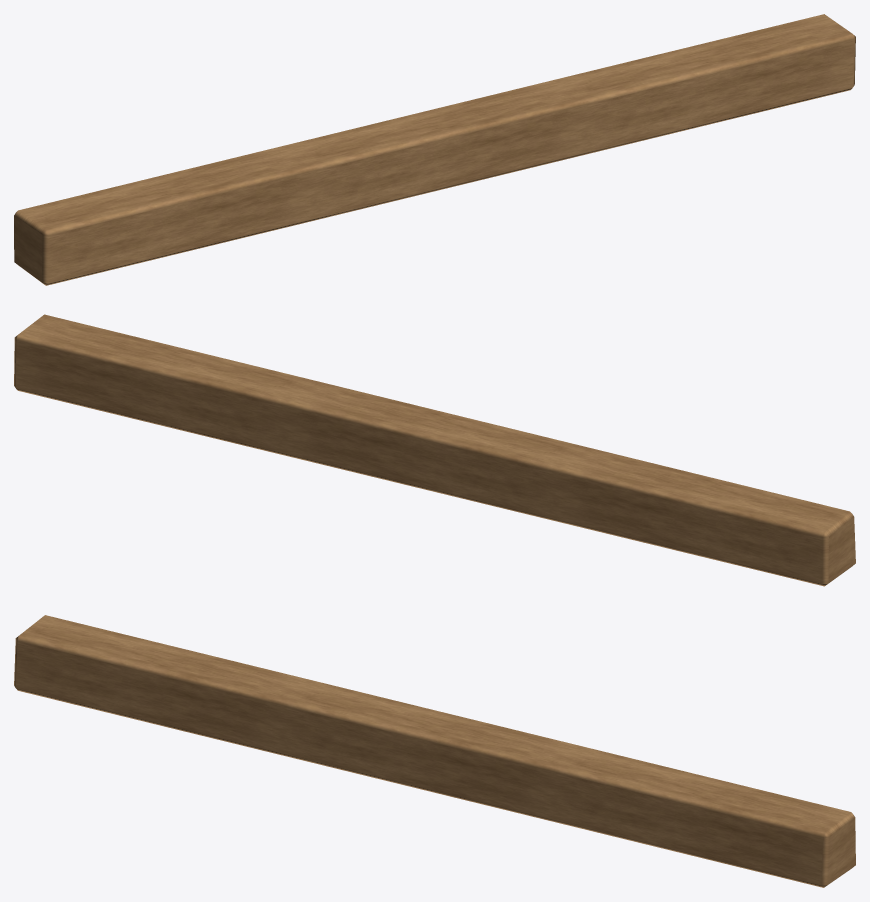
File: Beam_3m.glb
3 views of the same model, one above another, from view 1: azimuth 30°, elevation 25°; view 2: azimuth 150°, elevation 25°; view 3: azimuth 330°, elevation 25° (orthographic).
Parts seen in each view (by area): view 1: Beam_3m; view 2: Beam_3m; view 3: Beam_3m.
Part boxes in pixels (left/top/right/bottom): Beam_3m: left=14, top=14, right=855, bottom=285; Beam_3m: left=14, top=314, right=855, bottom=586; Beam_3m: left=14, top=615, right=855, bottom=887.
Bounding box in the file's own units: 3.01 × 0.1991 × 0.206.
1 material, 1 textured.
